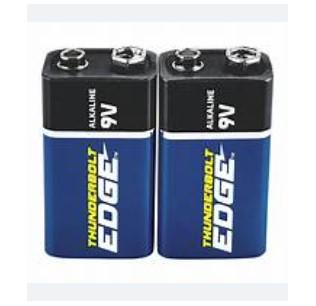9V Battery: (41, 46, 158, 260)
